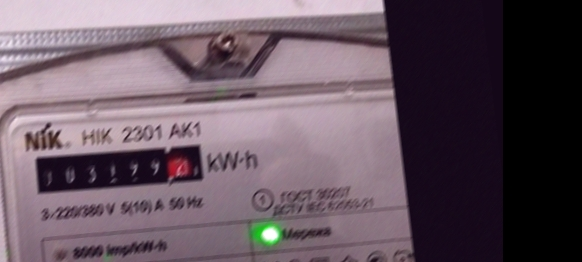0: (41, 166, 55, 188), (64, 163, 78, 185)
1: (107, 158, 119, 178)
3: (86, 164, 99, 184)
6: (175, 162, 187, 179)
9: (128, 157, 142, 178), (149, 156, 162, 176)
screen: (28, 133, 215, 208)
